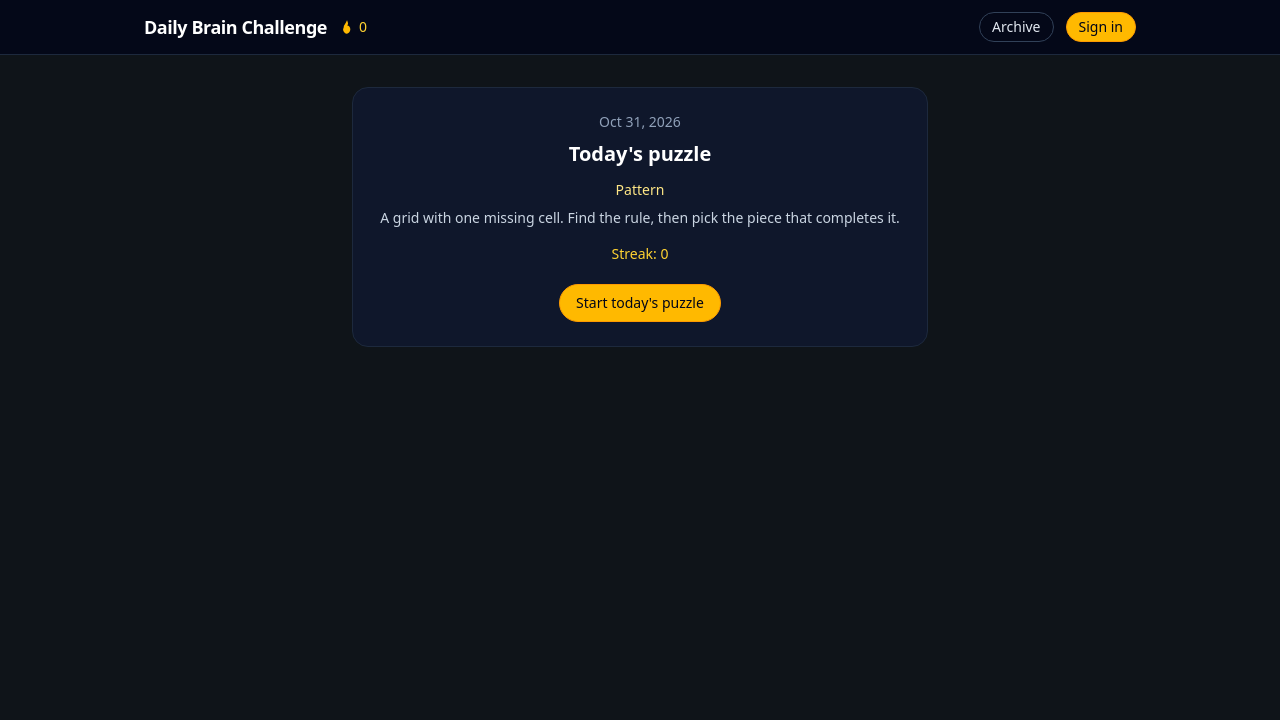
Test: daily clock › starts the clock only after Start is pressed
Click the button "Start today's puzzle". click: (640, 303)
box: x1=559 y1=284 x2=721 y2=322
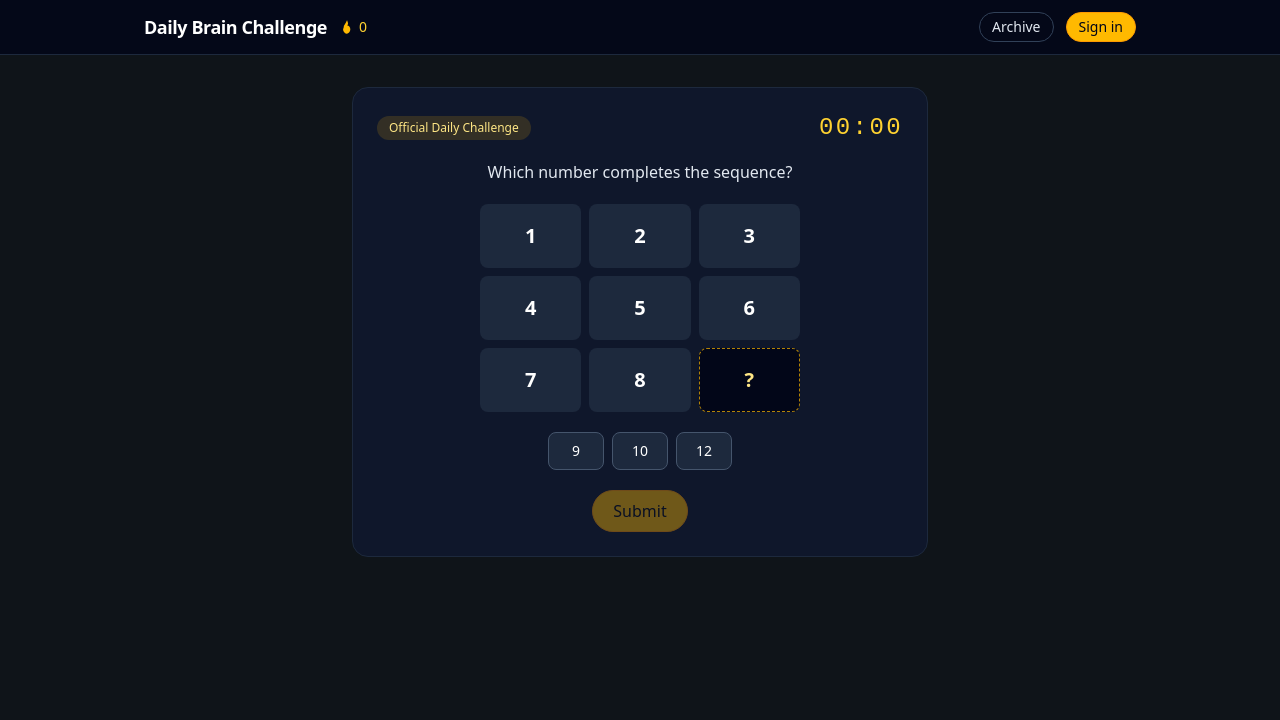
Now the text "00:00" is shown, box x1=819 y1=112 x2=903 y2=144
